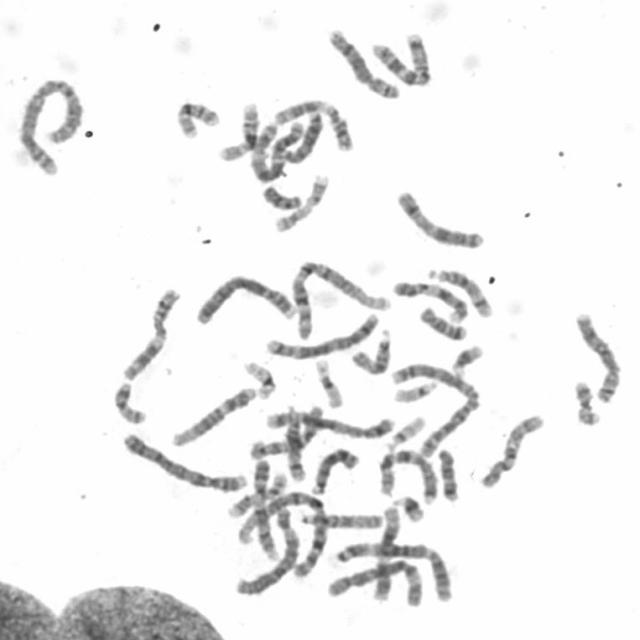A1: (226, 482, 334, 579), (284, 252, 392, 342)
A2: (387, 355, 484, 459), (12, 71, 86, 178)
A3: (324, 534, 456, 604), (244, 112, 305, 184)
B4: (117, 425, 250, 494), (190, 268, 298, 326)
B5: (262, 307, 382, 360), (260, 404, 398, 441)
C10: (476, 407, 548, 490), (244, 399, 328, 461)
C11: (115, 280, 183, 382), (268, 93, 356, 152)
C12: (166, 379, 259, 448), (368, 500, 402, 603)
C6: (230, 500, 302, 598), (321, 554, 426, 610)
C7: (372, 443, 442, 505), (366, 26, 434, 88)
C8: (324, 22, 403, 101), (570, 305, 624, 404)
C9: (388, 274, 472, 324), (247, 453, 281, 563)
D13: (306, 440, 362, 495), (277, 101, 325, 165)
D14: (423, 260, 497, 320), (278, 402, 310, 484)
D15: (346, 322, 395, 376), (294, 506, 386, 531)
E16: (213, 95, 263, 163), (171, 94, 222, 140)
E17: (269, 168, 333, 233), (222, 465, 290, 519)
E18: (414, 300, 470, 342), (434, 441, 463, 503)
F19: (309, 352, 346, 409), (239, 354, 279, 401)
F20: (108, 375, 150, 426), (569, 374, 604, 427)
G21: (446, 337, 487, 376), (388, 489, 428, 524)
G22: (379, 409, 428, 452), (388, 374, 442, 404)
X: (391, 183, 489, 251)
Y: (258, 179, 304, 211)
